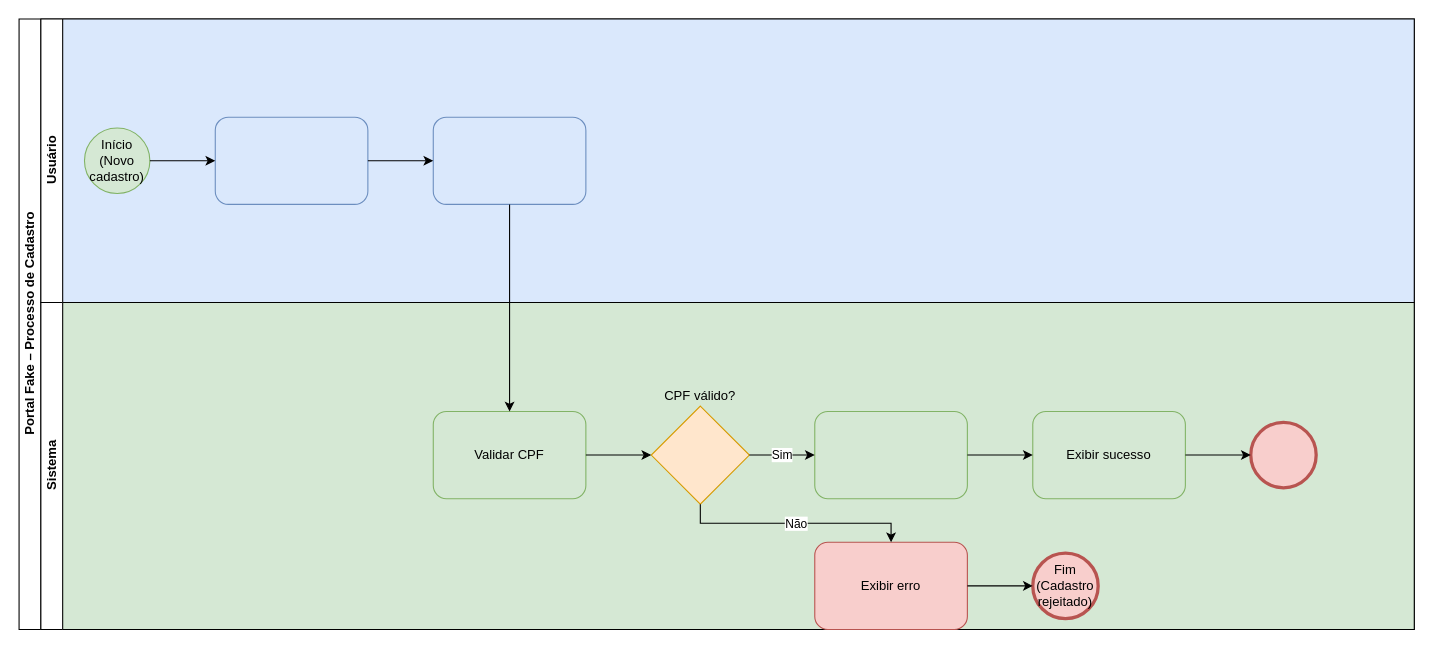
This 1433x649 diagram has some shape labels left out. The centre of each missing label's shape, as x and y in pixels:
Clicar em Salvar: [509,160]
Fim (Cadastro realizado): [1283,454]
Preencher formulário: [291,160]
Salvar Cadastro: [890,454]
